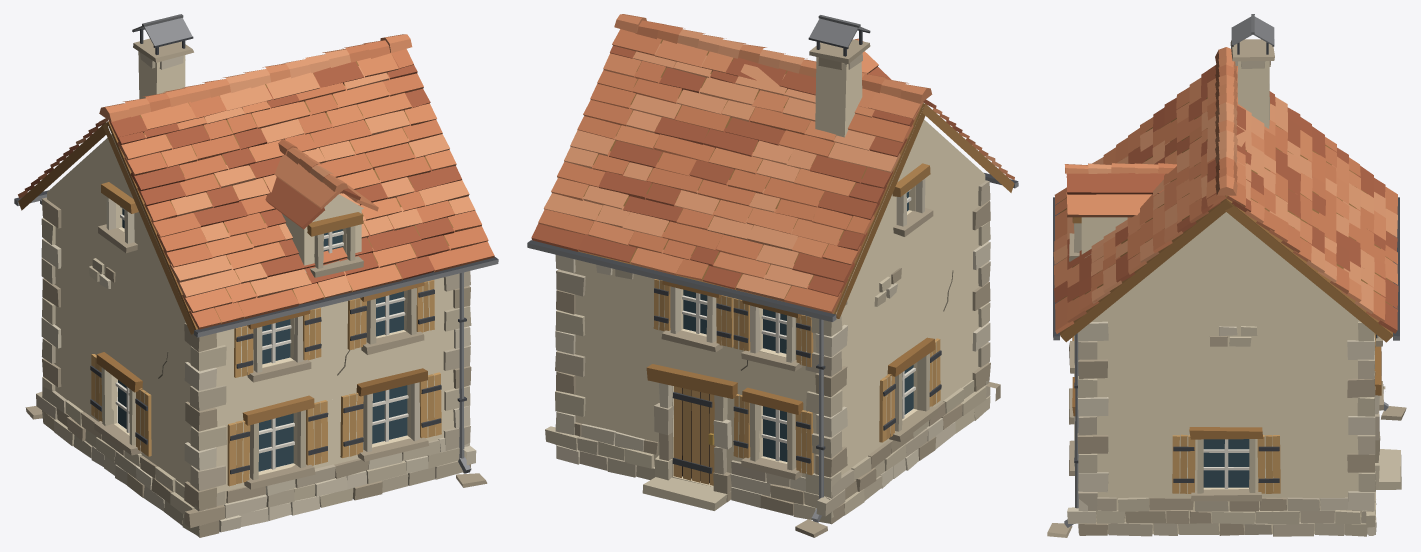
File: lucie.glb
3 views of the same model, side by side, from view 1: azimuth 30°, elevation 25°; view 2: azimuth 150°, elevation 25°; view 3: azimuth 270°, elevation 25° (orthographic). The views are drawn at different scales.
Parts seen in each view (by area): view 1: lucie; view 2: lucie; view 3: lucie.
Boxes of the visible parts, x1,y1,x2,y2 form: lucie: (14,14,498,537); lucie: (527,14,1018,537); lucie: (1047,14,1406,537).
Bounding box in the file's own units: 6.84 × 9.46 × 7.44.
